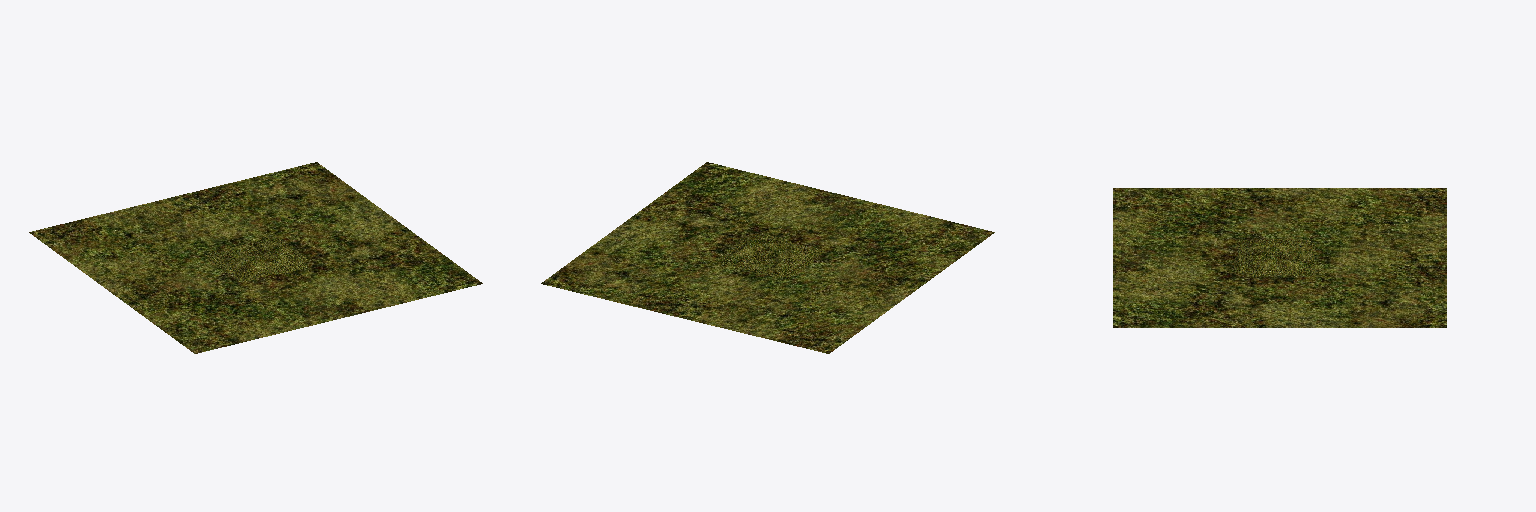
3 views of the same model, side by side, from view 1: azimuth 30°, elevation 25°; view 2: azimuth 150°, elevation 25°; view 3: azimuth 270°, elevation 25° (orthographic).
Parts seen in each view (by area): view 1: pPlane2, pPlane1; view 2: pPlane2, pPlane1; view 3: pPlane2, pPlane1.
Part boxes in pixels (bbox=[...]): pPlane2: bbox=[29, 162, 482, 353]; pPlane1: bbox=[205, 238, 308, 281]; pPlane2: bbox=[541, 162, 994, 353]; pPlane1: bbox=[719, 234, 824, 277]; pPlane2: bbox=[1113, 188, 1446, 327]; pPlane1: bbox=[1233, 239, 1315, 276].
Size of the model in its own units: 86.67 by 4.44 by 86.67.
2 materials, 1 textured.